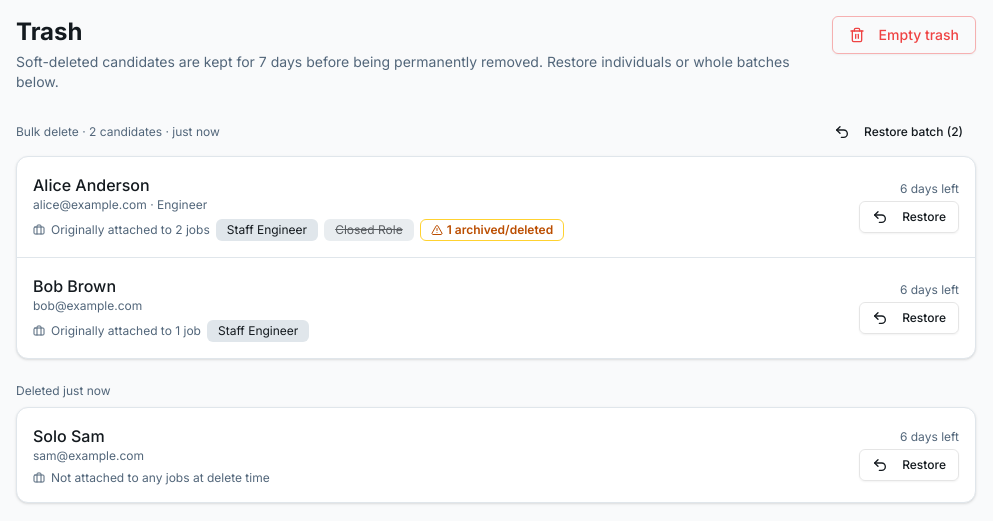
Test: TrashPage › per-row Restore removes the candidate from the visible trash list
The image size is (993, 521).
Check: the element with test id "trash-row-1" is shown, box [17, 157, 975, 258]
Click the button with test id "restore-1".
click(909, 217)  # box [859, 201, 959, 233]
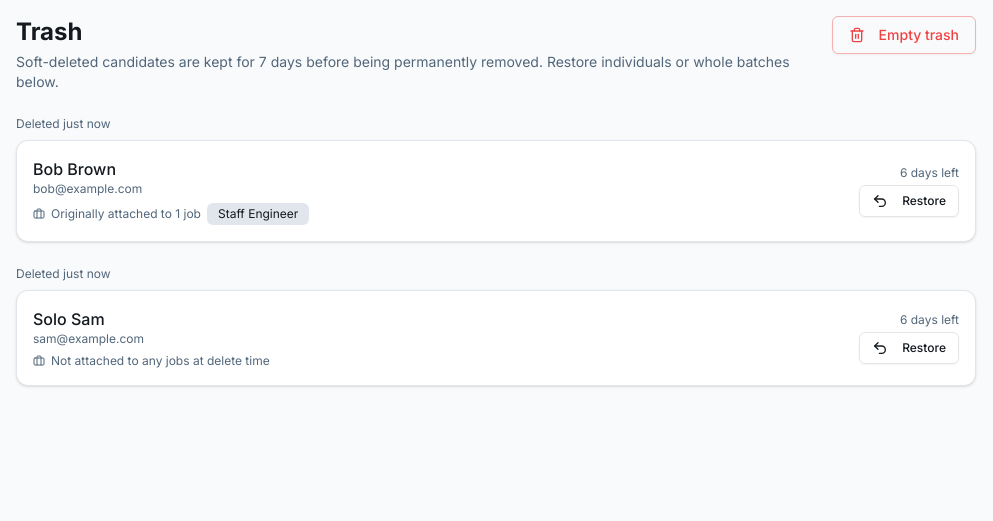
Check: the element with test id "trash-row-2" is shown, box [17, 141, 975, 241]
Check: the element with test id "trash-row-1" is gone
